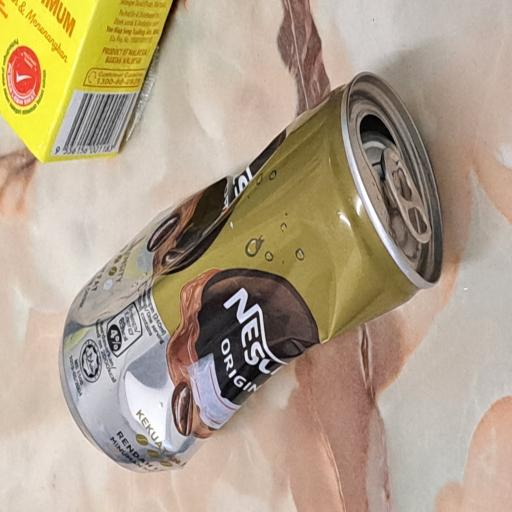can: (27, 76, 330, 512)
drink carton: (262, 0, 384, 234)
